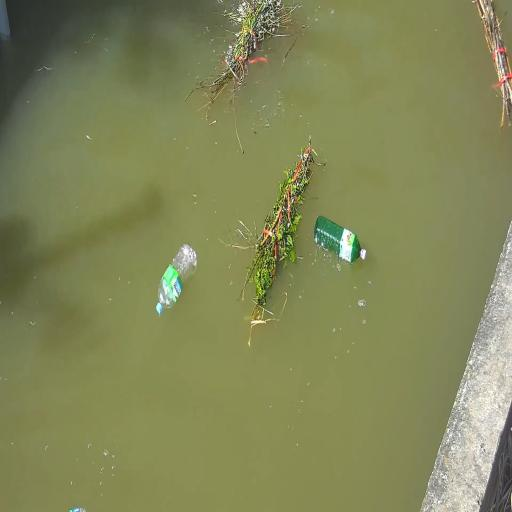plastic: (157, 241, 193, 320), (315, 214, 368, 266), (65, 506, 89, 512)
twig: (246, 143, 316, 316), (199, 0, 287, 101), (464, 0, 512, 123)
